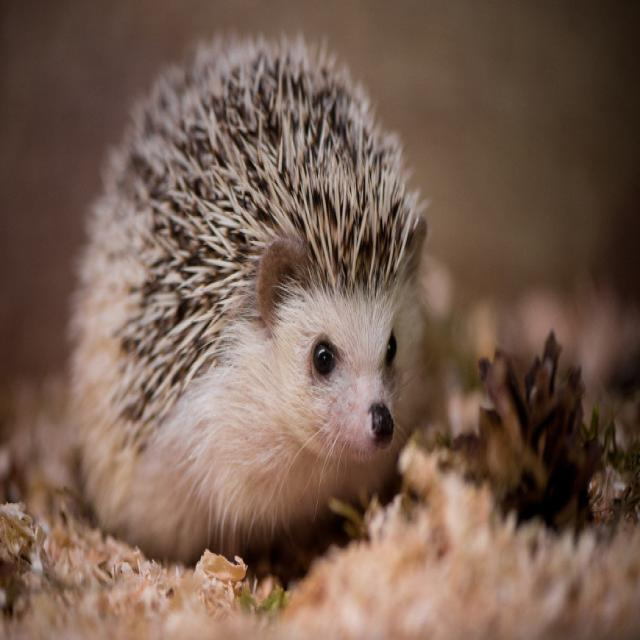Hedgehog: (70, 33, 424, 555)
